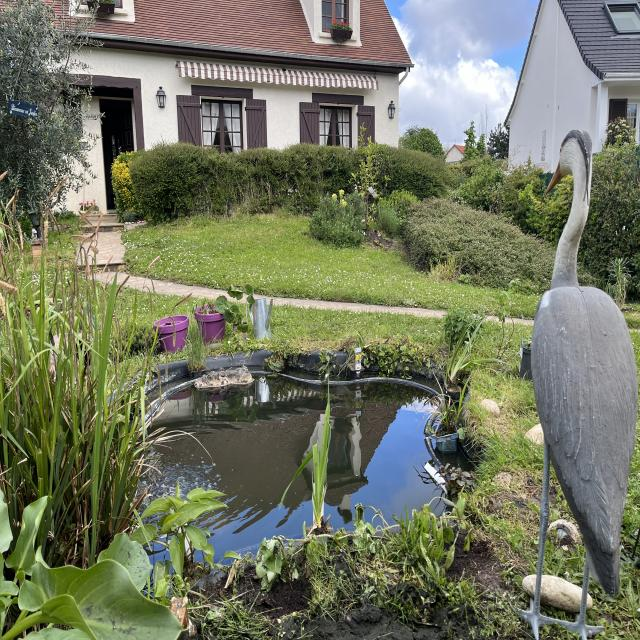Heron: (516, 106, 640, 640)
